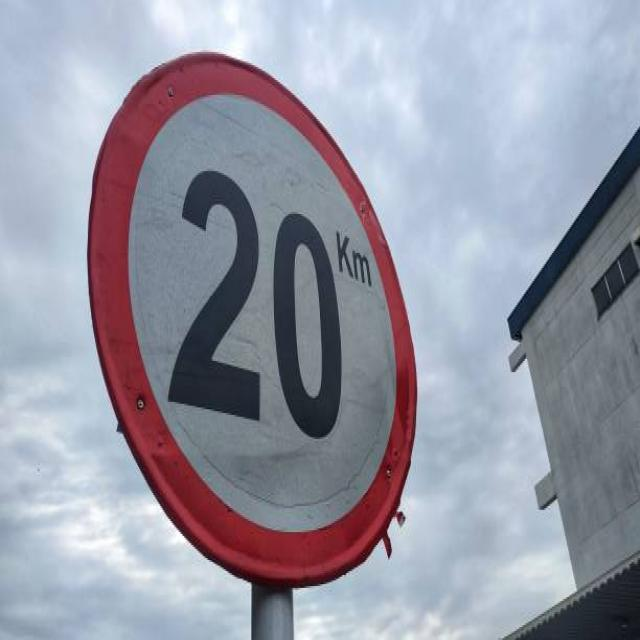speed_limit_20: (88, 41, 420, 584)
